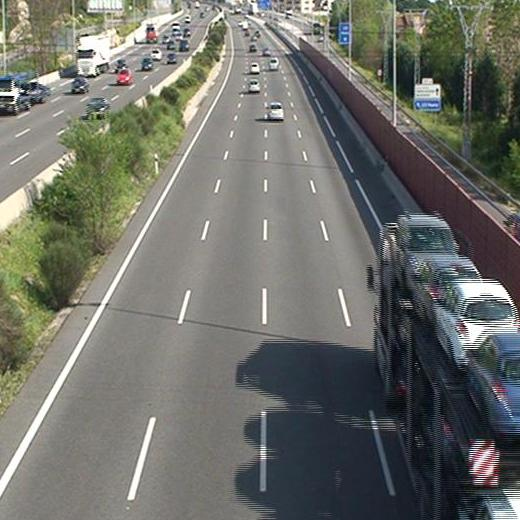car: (441, 282, 519, 365), (397, 217, 458, 285), (415, 260, 480, 313), (267, 101, 284, 119), (249, 62, 258, 73), (249, 79, 258, 90)
truck: (377, 227, 520, 519)
van: (268, 57, 278, 69)
